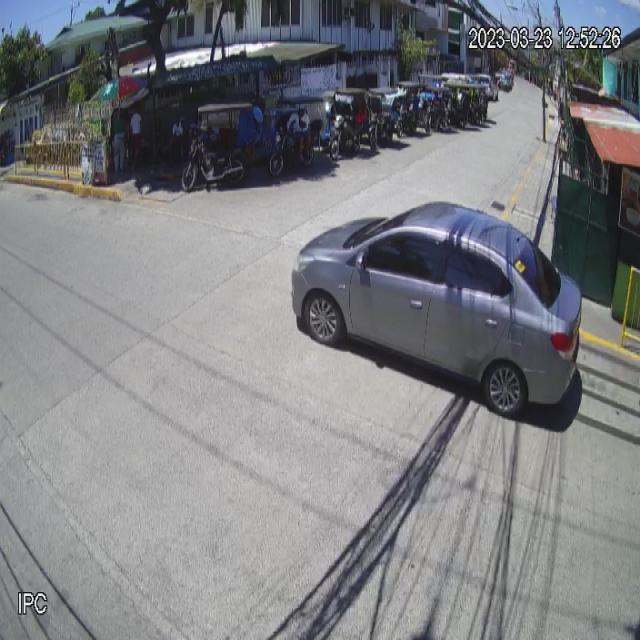Car: (290, 202, 582, 414)
